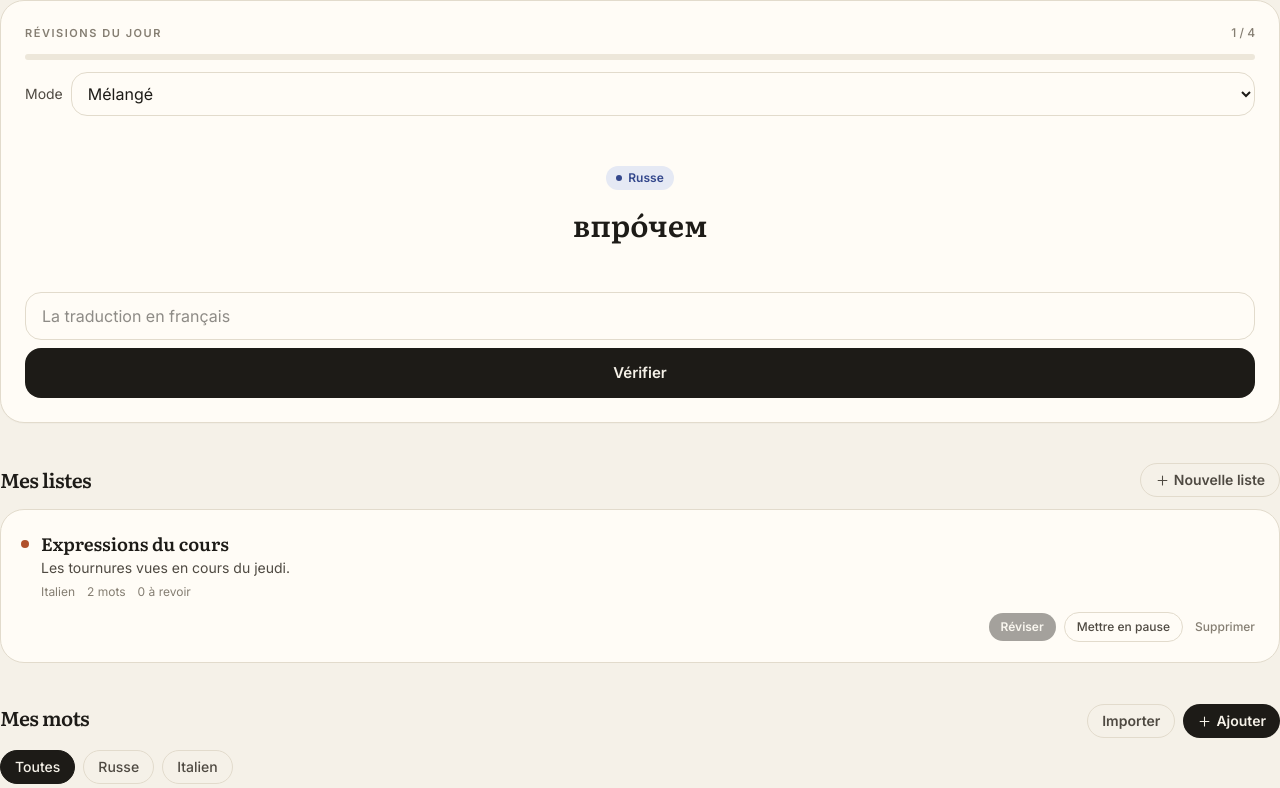
it: VocabularyView › filters by language and status
Click the button "Italien". click: (197, 767)
box: top-left (162, 750), bottom-right (233, 784)
(page scrolled)
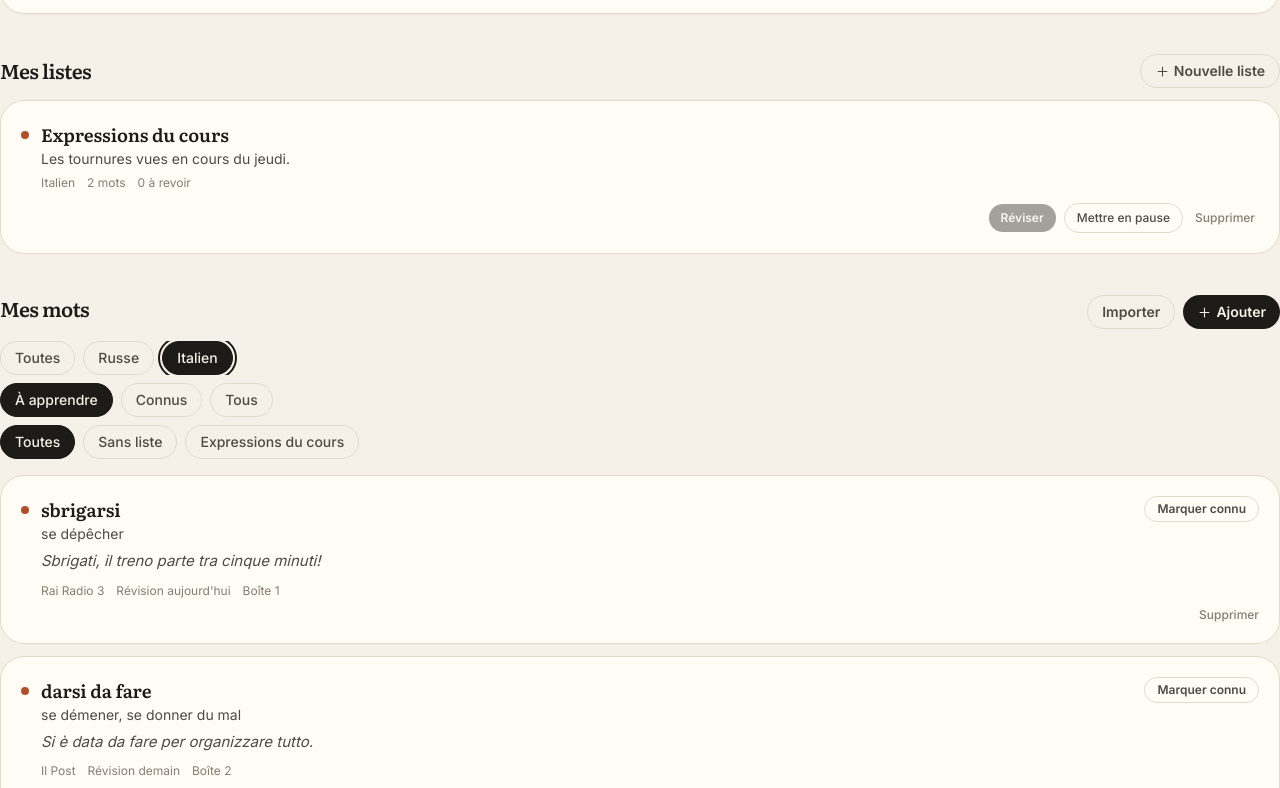
Expected: the text "впро́чем" is not shown
Expected: the text "darsi da fare" is shown, top-left (41, 676), bottom-right (152, 704)
Click the button "Connus". click: (161, 400)
box: top-left (121, 383), bottom-right (202, 417)
(page scrolled)
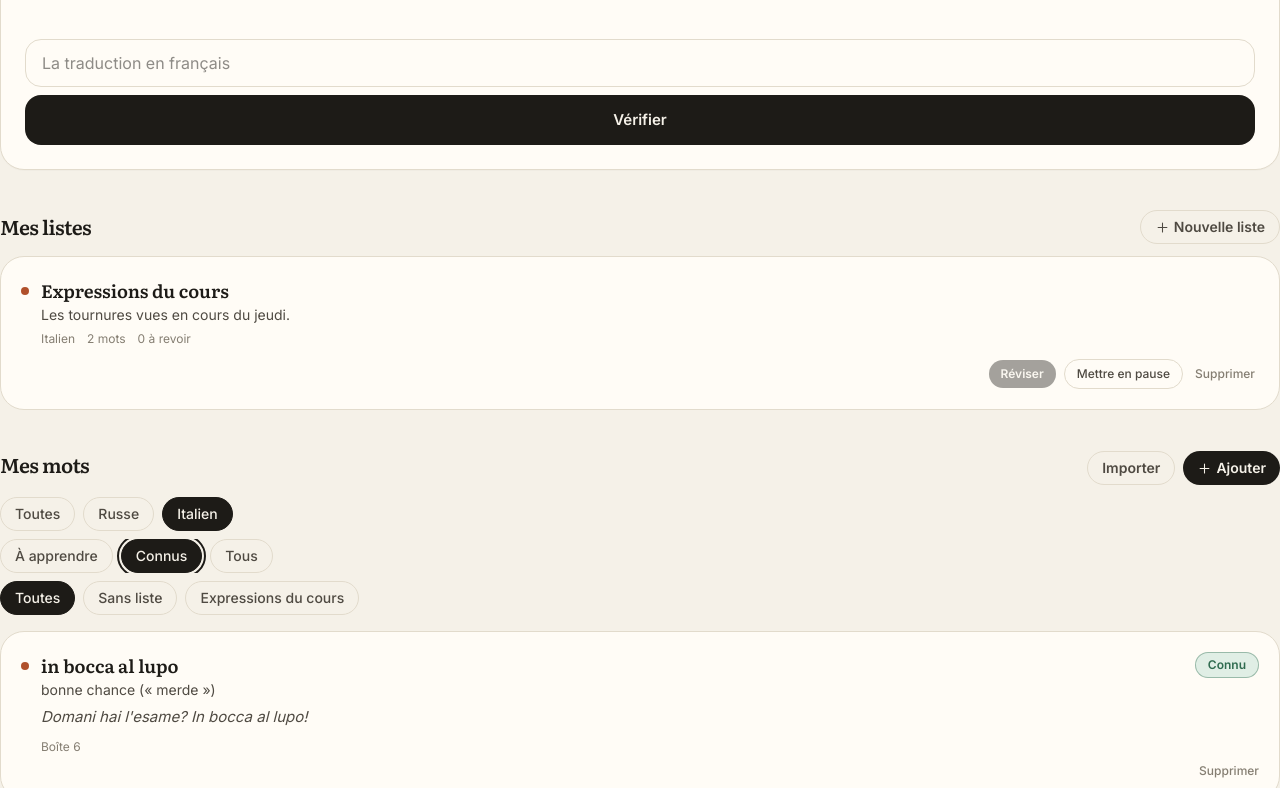
Result: the text "in bocca al lupo" is shown at top-left (41, 652), bottom-right (179, 679)
Result: the text "darsi da fare" is gone
